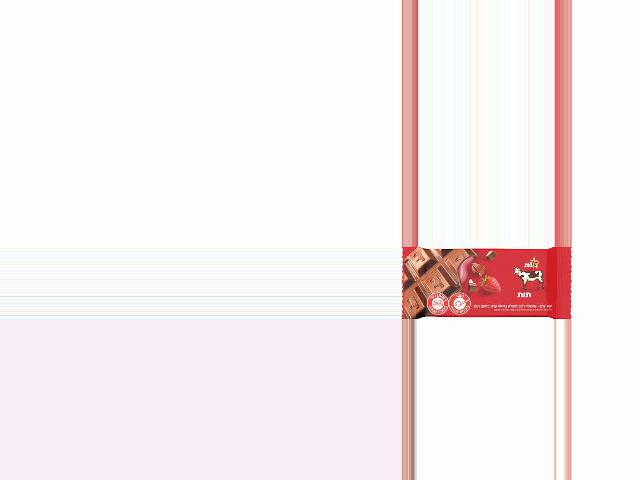chocolate: (403, 247, 572, 319)
